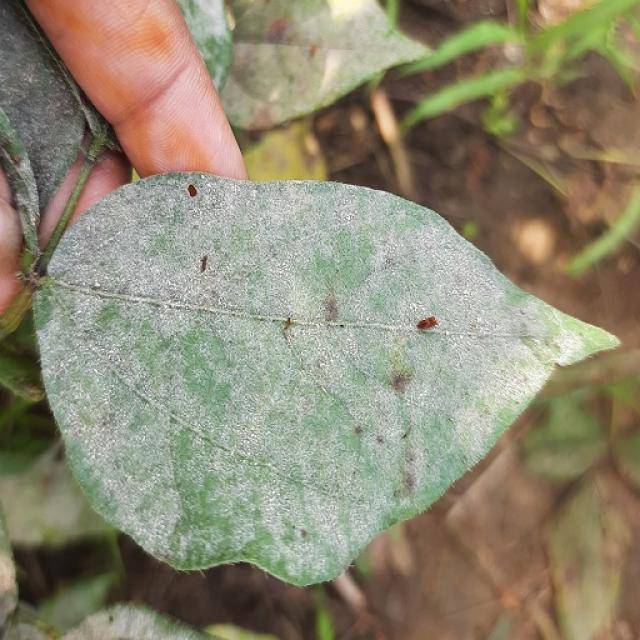Blackgram: (36, 174, 618, 585)
Powdery_Mildew: (100, 295, 386, 488), (160, 197, 390, 324), (193, 393, 352, 535), (67, 426, 199, 550), (33, 299, 127, 466), (284, 318, 394, 430), (457, 342, 561, 434), (414, 250, 514, 325), (78, 296, 163, 378), (283, 220, 371, 297), (26, 116, 86, 222), (111, 227, 198, 297), (79, 212, 153, 268), (201, 176, 350, 198), (187, 253, 231, 313), (544, 322, 603, 364), (408, 301, 422, 313), (462, 288, 471, 296), (199, 174, 208, 181), (251, 189, 258, 197), (94, 280, 101, 287)
